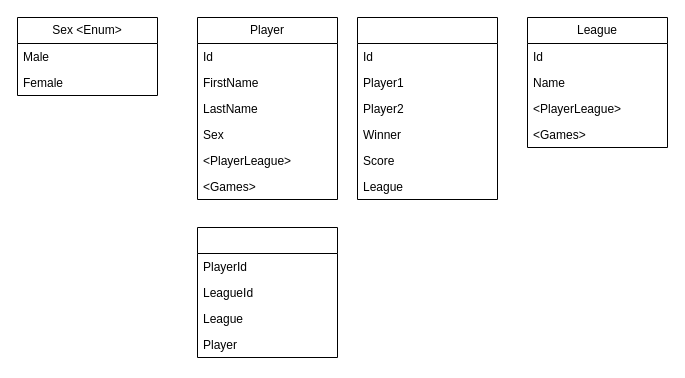
Image size: 685x378. Some labels were removed from this diagram. Here are the shapes that lost their labels. From the top down, the box of each, then its label:
(356, 16, 498, 200): Game
(196, 226, 338, 358): PlayerLeague
